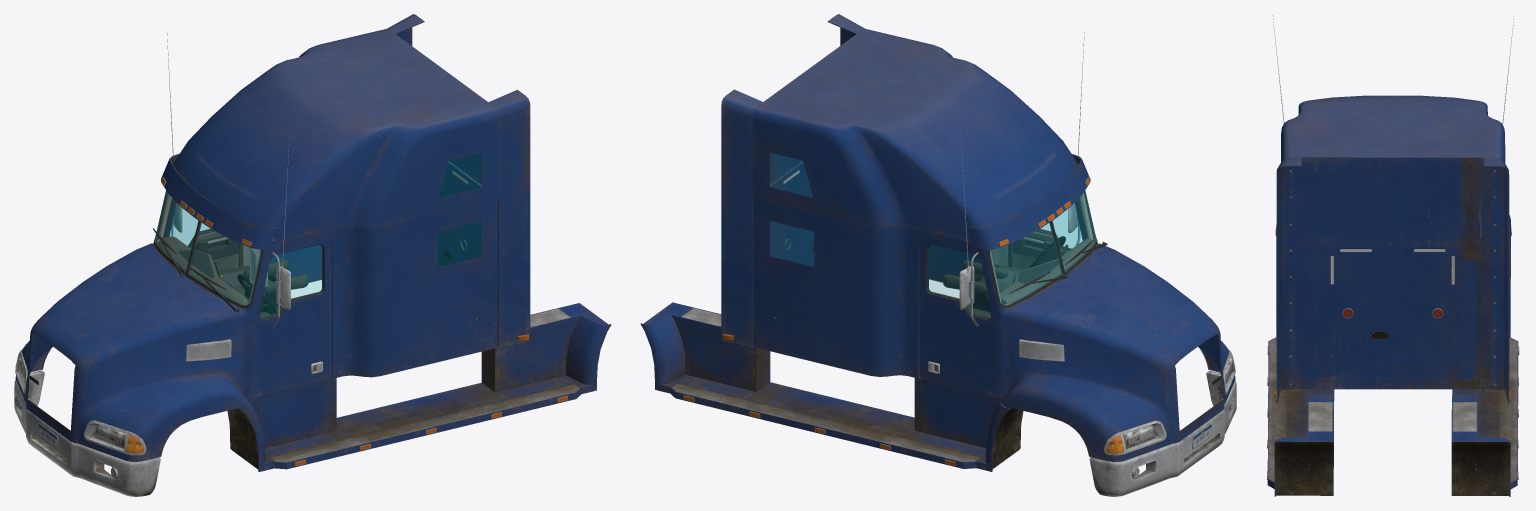
Rendered from Truck cabin interior.fbx.
The picture shows the model from 3 angles, left to right: view 1: azimuth 30°, elevation 25°; view 2: azimuth 150°, elevation 25°; view 3: azimuth 270°, elevation 25°; orthographic projection. The views are drawn at different scales.
Visible parts, largest first — view 1: Semi_Truck_Body003_Semi_Truck_Body_Red_0, Semi_Truck_Door_FR003_Semi_Truck_Body_Red_1, Semi_Truck_Windows003_Semi_Truck_Windows_0, Semi_Truck_Interior003_Semi_Truck_Interior_0, Semi_Truck_Window_FR003_Semi_Truck_Windows_1, Semi_Truck_Door_FR003_Semi_Truck_Body_Red_2, Semi_Truck_Window_FR003_Semi_Truck_Windows_0; view 2: Semi_Truck_Body003_Semi_Truck_Body_Red_0, Semi_Truck_Door_FR003_Semi_Truck_Body_Red_2, Semi_Truck_Windows003_Semi_Truck_Windows_0, Semi_Truck_Interior003_Semi_Truck_Interior_0, Semi_Truck_Window_FR003_Semi_Truck_Windows_0, Semi_Truck_Door_FR003_Semi_Truck_Body_Red_1, Semi_Truck_Window_FR003_Semi_Truck_Windows_1; view 3: Semi_Truck_Body003_Semi_Truck_Body_Red_0.
Part boxes in pixels (bbox=[...]): Semi_Truck_Body003_Semi_Truck_Body_Red_0: bbox=[14, 14, 611, 496]; Semi_Truck_Door_FR003_Semi_Truck_Body_Red_1: bbox=[255, 124, 331, 395]; Semi_Truck_Windows003_Semi_Truck_Windows_0: bbox=[155, 153, 481, 305]; Semi_Truck_Interior003_Semi_Truck_Interior_0: bbox=[157, 193, 308, 317]; Semi_Truck_Window_FR003_Semi_Truck_Windows_1: bbox=[260, 245, 322, 318]; Semi_Truck_Door_FR003_Semi_Truck_Body_Red_2: bbox=[167, 32, 238, 271]; Semi_Truck_Window_FR003_Semi_Truck_Windows_0: bbox=[170, 204, 209, 245]; Semi_Truck_Body003_Semi_Truck_Body_Red_0: bbox=[640, 14, 1236, 496]; Semi_Truck_Door_FR003_Semi_Truck_Body_Red_2: bbox=[919, 122, 995, 395]; Semi_Truck_Windows003_Semi_Truck_Windows_0: bbox=[770, 153, 1095, 305]; Semi_Truck_Interior003_Semi_Truck_Interior_0: bbox=[943, 193, 1094, 317]; Semi_Truck_Window_FR003_Semi_Truck_Windows_0: bbox=[928, 245, 990, 318]; Semi_Truck_Door_FR003_Semi_Truck_Body_Red_1: bbox=[1012, 32, 1084, 269]; Semi_Truck_Window_FR003_Semi_Truck_Windows_1: bbox=[1041, 203, 1081, 248]; Semi_Truck_Body003_Semi_Truck_Body_Red_0: bbox=[1267, 95, 1519, 496].
Bounding box in the file's own units: 620 × 405 × 280.
3 materials, 2 textured.
